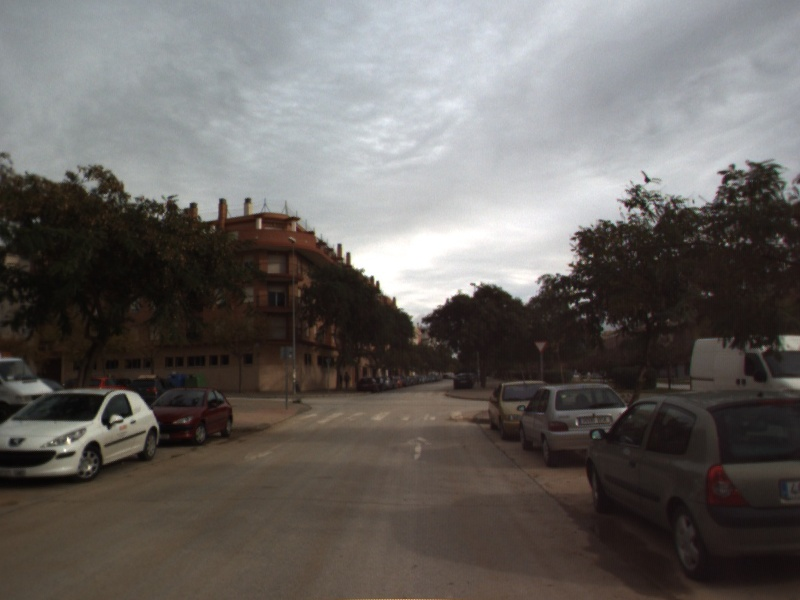STRAIGHT: (403, 434, 435, 462)
